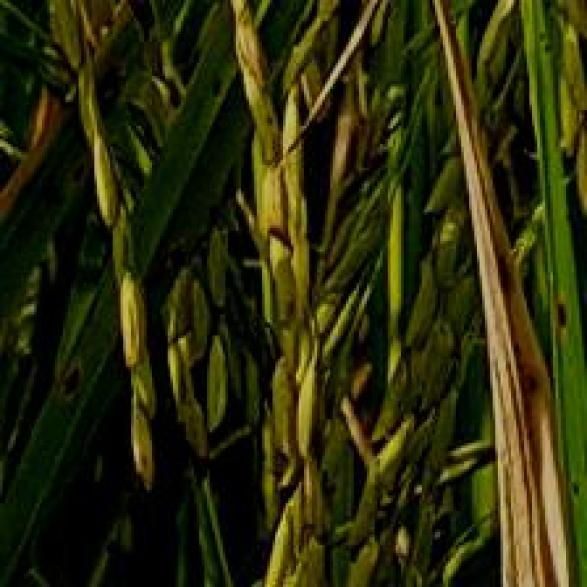Bacteria_Leaf_Blight: (417, 5, 571, 584)
